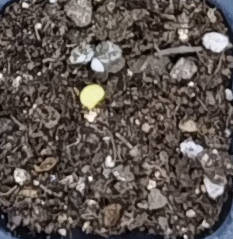pepper seed: (25, 27, 131, 139)
